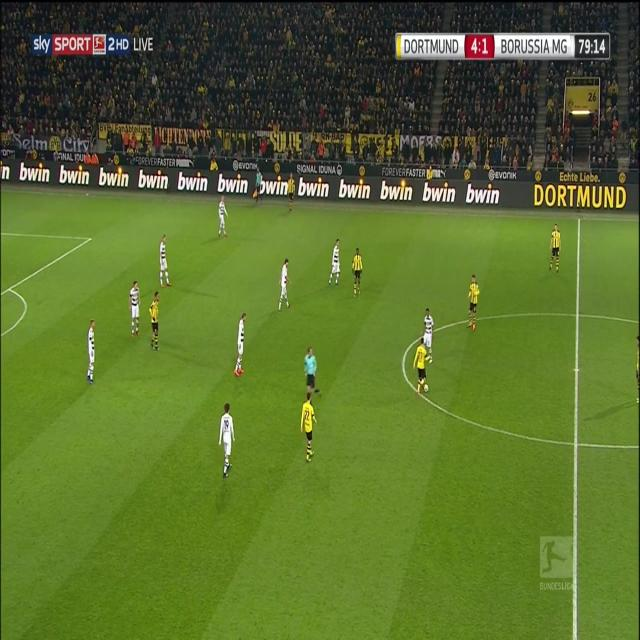Ball: (422, 382, 430, 395)
Player: (218, 402, 236, 481), (301, 393, 317, 465), (126, 279, 144, 339), (233, 311, 248, 382), (156, 230, 173, 292), (546, 219, 564, 276), (465, 272, 482, 332), (83, 318, 97, 389), (326, 236, 343, 291), (278, 254, 293, 312), (350, 243, 364, 301), (414, 337, 428, 394), (422, 303, 435, 364), (150, 289, 162, 353), (217, 193, 230, 239), (285, 172, 297, 212)
Referee: (301, 344, 319, 394), (254, 167, 263, 208)
